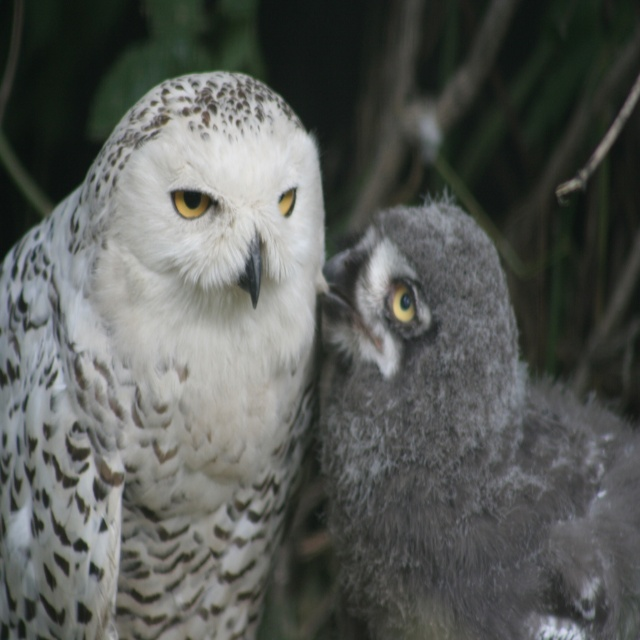Owl: (0, 69, 325, 639), (273, 186, 640, 639)
